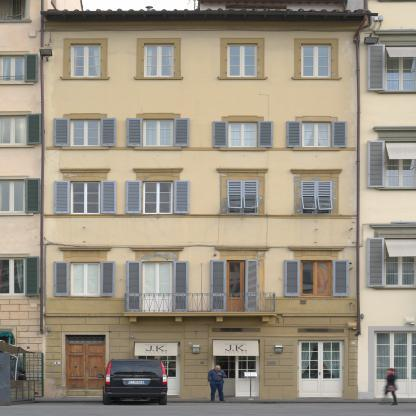Balcony: (123, 293, 276, 316)
Building Outline: (40, 10, 378, 399)
Cornice: (290, 169, 343, 174), (59, 168, 111, 173), (132, 168, 184, 173), (216, 168, 268, 173), (288, 247, 345, 251), (214, 247, 270, 251), (58, 247, 113, 251), (130, 247, 184, 251)
Deco: (267, 361, 276, 365)
Door: (212, 339, 260, 399), (298, 340, 345, 398), (134, 342, 180, 397), (66, 343, 106, 396), (227, 260, 258, 312), (143, 262, 174, 313)
Facade: (40, 8, 379, 399)
Floor: (45, 229, 358, 316), (45, 160, 358, 229), (45, 98, 358, 161)
Floor Slab: (45, 93, 358, 97), (45, 225, 358, 229), (45, 156, 358, 160), (45, 312, 358, 316)
Ground Floor: (45, 316, 358, 398)
Molding: (46, 21, 365, 30), (44, 214, 357, 219)
Shop: (213, 340, 259, 356), (135, 342, 178, 356)
Sill: (292, 147, 341, 151), (61, 146, 110, 150), (134, 146, 183, 150), (219, 147, 268, 151), (293, 77, 341, 80), (62, 77, 110, 80), (135, 77, 183, 80), (219, 77, 267, 80)
Top Floor: (45, 22, 358, 98)
Window: (301, 261, 332, 297), (301, 44, 332, 78), (227, 43, 258, 77), (301, 181, 332, 214), (70, 181, 101, 214), (227, 181, 258, 214), (71, 44, 101, 78), (144, 43, 174, 77), (143, 181, 173, 214), (71, 262, 100, 296), (143, 119, 174, 147), (71, 119, 101, 146), (228, 122, 258, 148), (302, 122, 332, 148), (66, 335, 106, 343), (298, 328, 344, 333), (212, 328, 261, 332)
